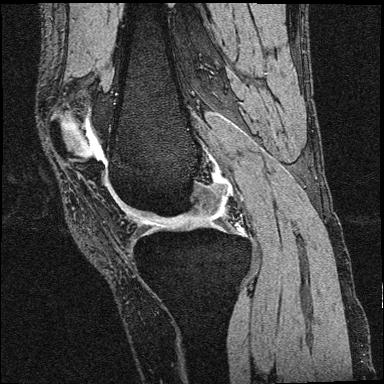SagKneeJointArea: (46, 90, 253, 276)
